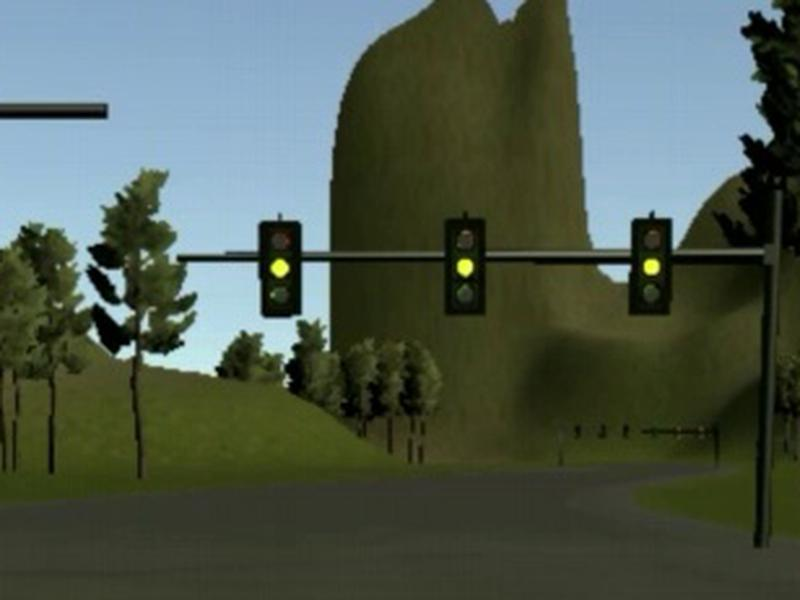Yellow: (627, 217, 671, 314), (257, 221, 301, 318), (444, 217, 485, 316)
